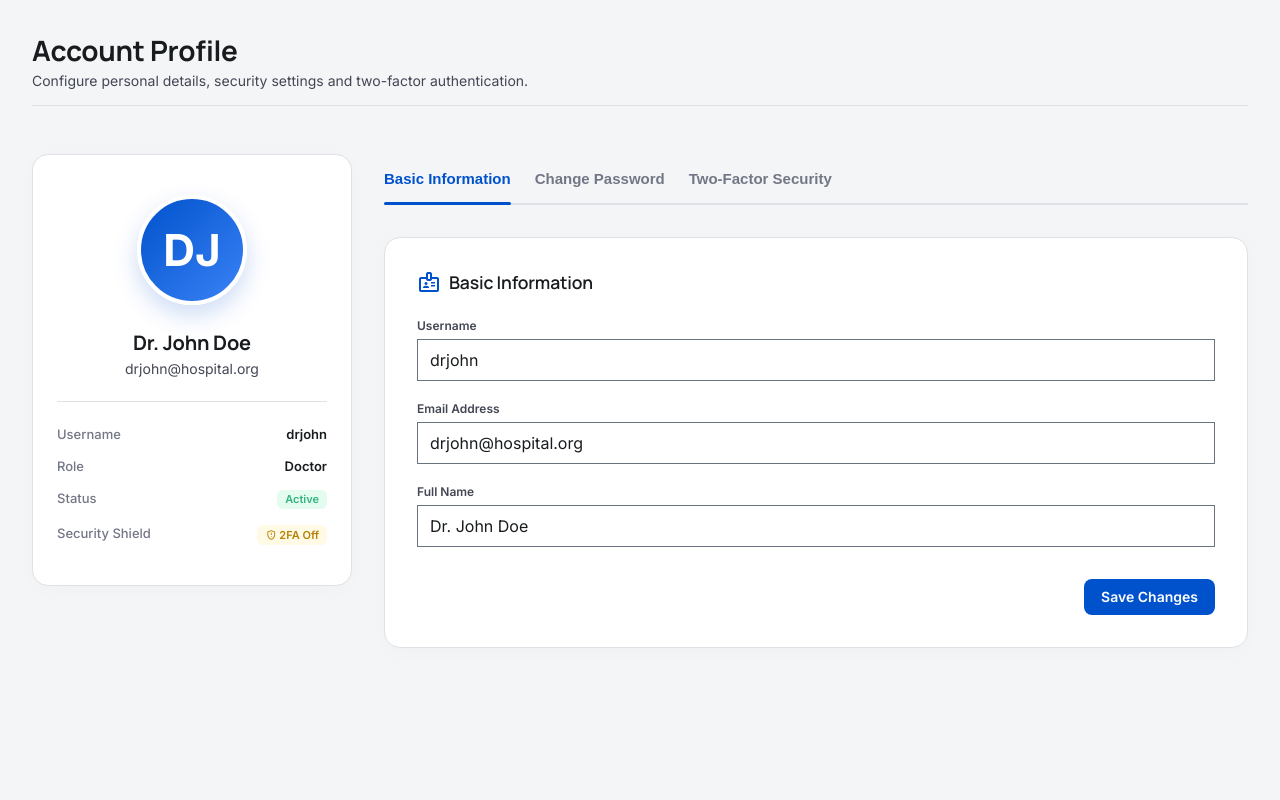
Test: ProfilePage › allows switching to Security / Password tab
Click the button "Change Password": (600, 179) [535, 154, 665, 203]
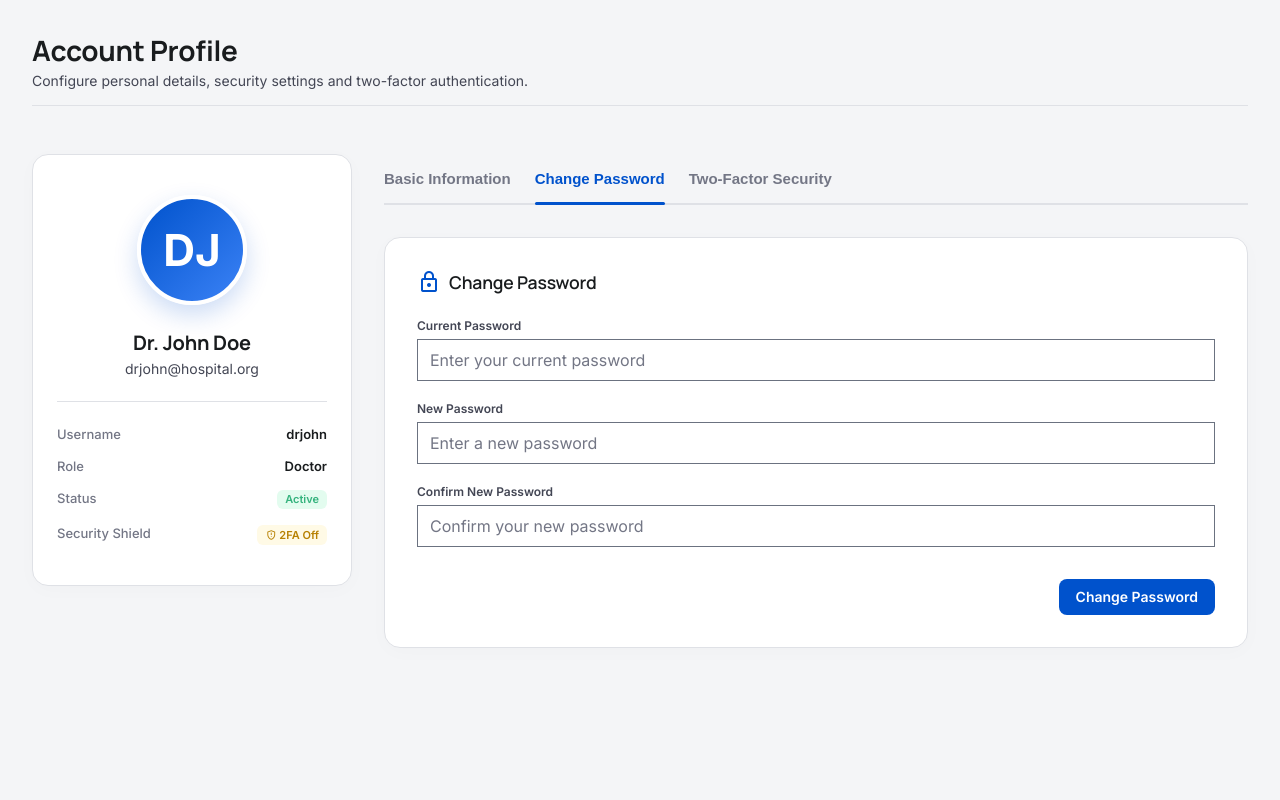
Expected: the password field labelled "Current Password" is shown, [417, 339, 1215, 381]
Expected: the password field labelled "New Password" is shown, [417, 422, 1215, 464]
